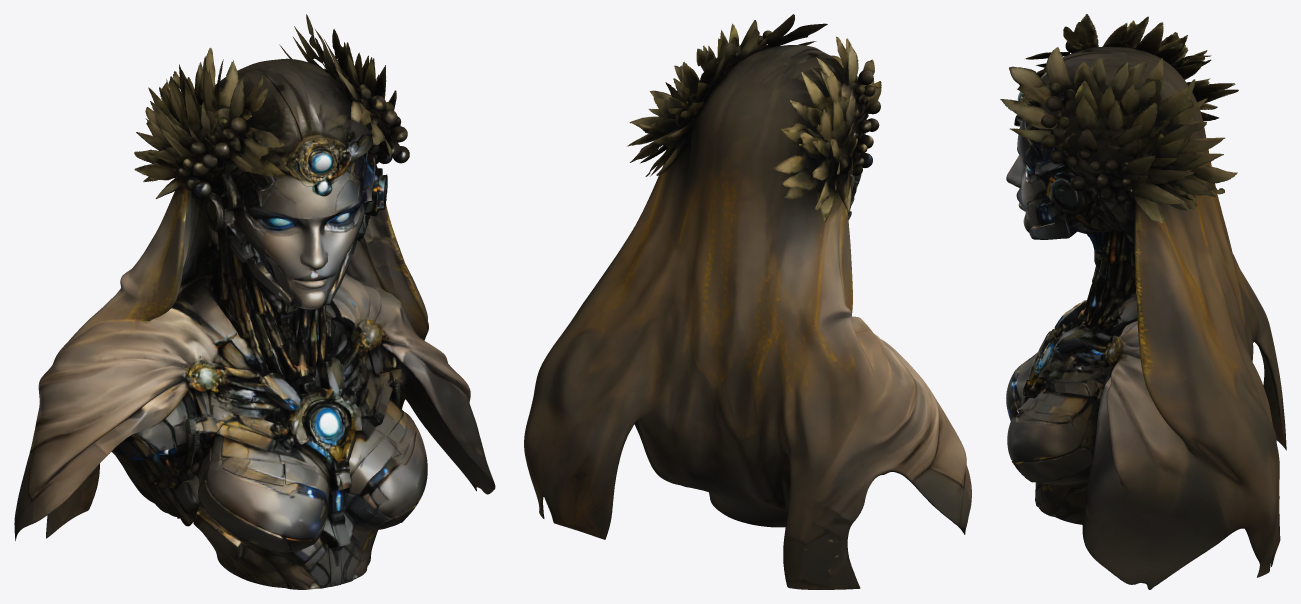
File: cyber_optimized.glb
3 renders of one model, left to right at view 1: azimuth 30°, elevation 25°; view 2: azimuth 150°, elevation 25°; view 3: azimuth 270°, elevation 25°, orthographic. The views are drawn at different scales.
Parts seen in each view (by area): view 1: model; view 2: model; view 3: model.
Boxes of the visible parts, x1,y1,x2,y2 form: model: (14,14,495,589); model: (524,14,971,589); model: (1000,14,1286,589).
Size of the model in its own units: 1.73 by 1.88 by 1.06.
1 material, 1 textured.
